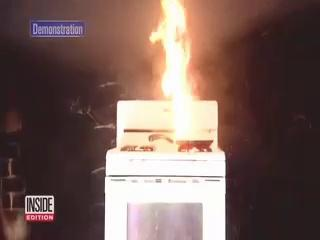Fire: (148, 1, 205, 142)
